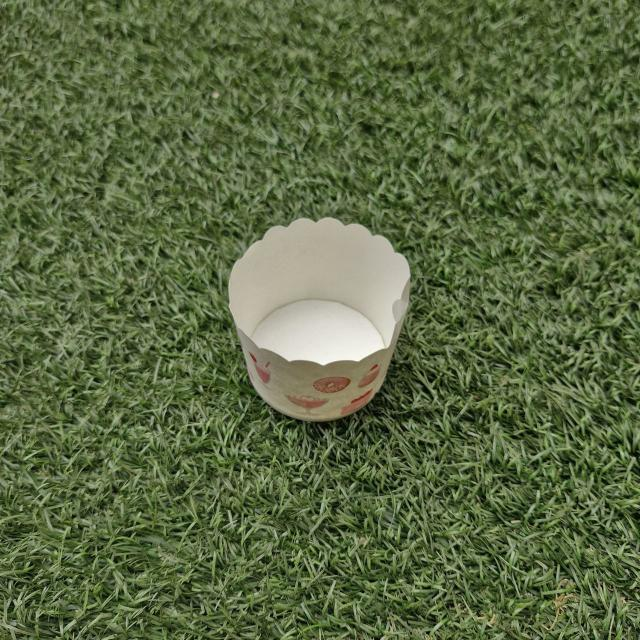paper: (228, 210, 420, 430)
